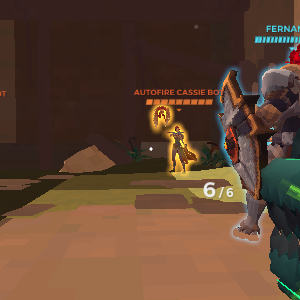model: (161, 120, 198, 177)
